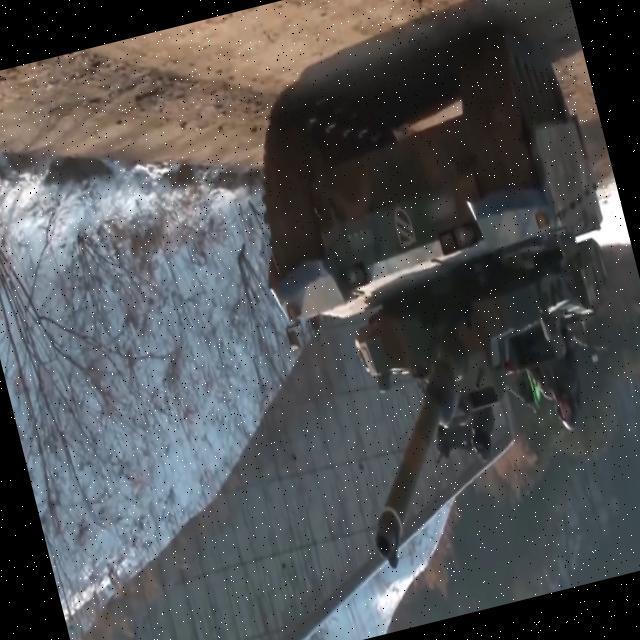korea tank: (220, 18, 640, 584)
